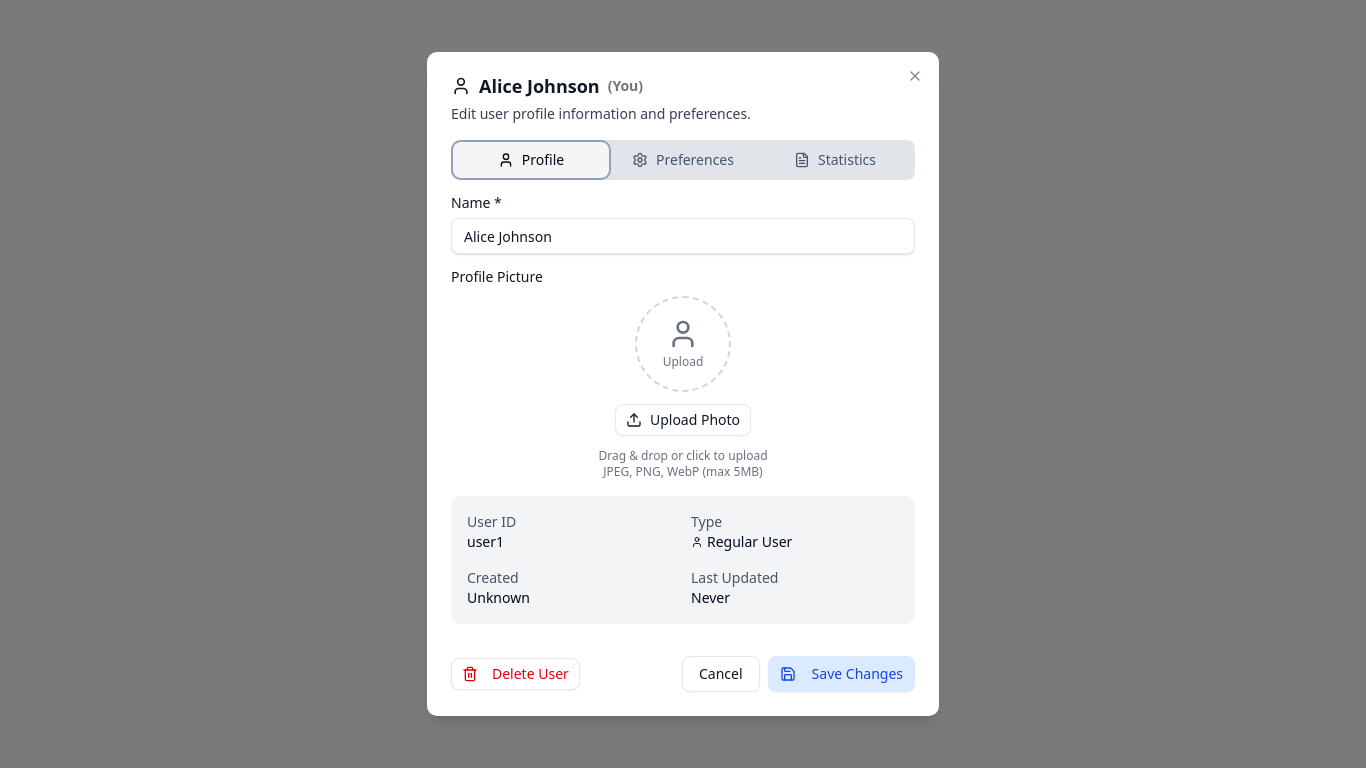
Test case: UserProfileDialog › Form Validation › shows validation message for empty name
// Clear the name
Clear the field showing "Alice Johnson" at {"x": 683, "y": 236}, box x1=451 y1=218 x2=915 y2=254
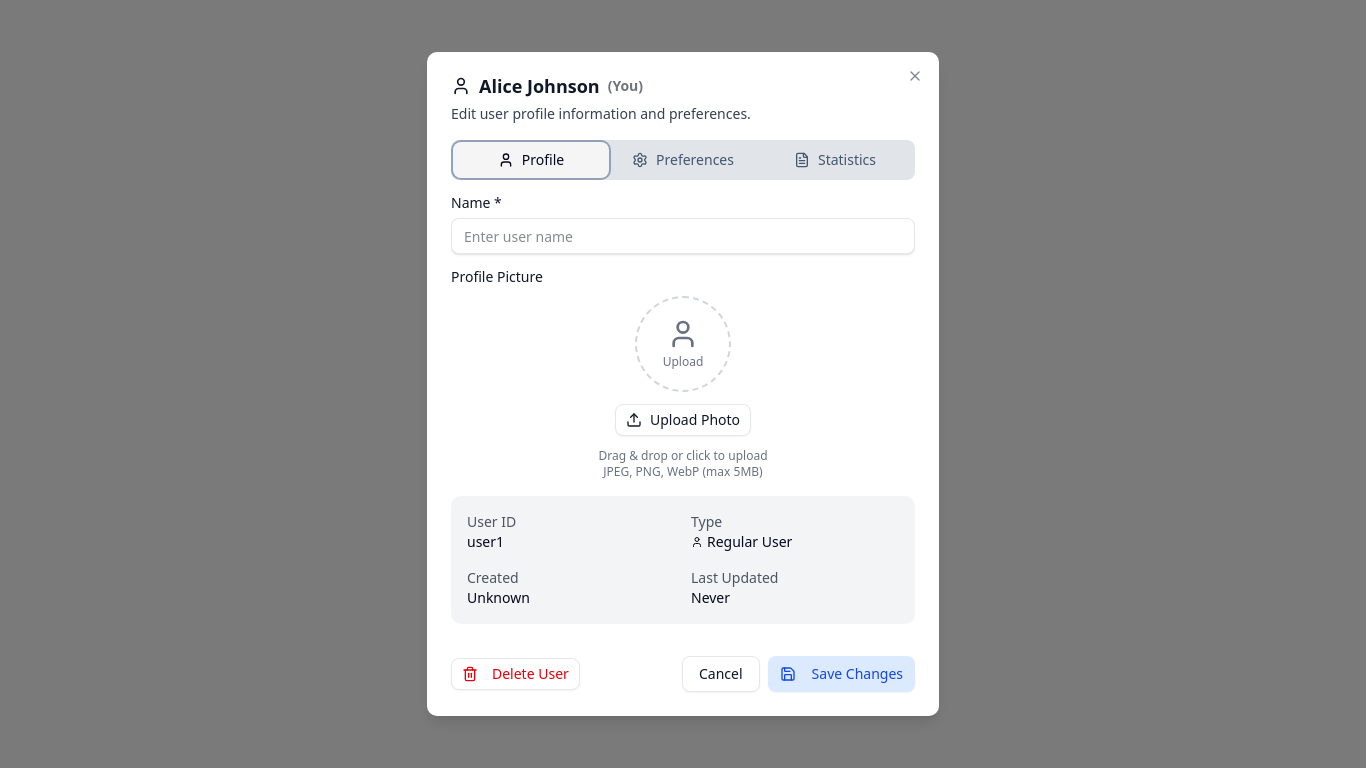
// Try to save
Click the button "Save Changes" at {"x": 841, "y": 674}, box x1=768 y1=656 x2=915 y2=692
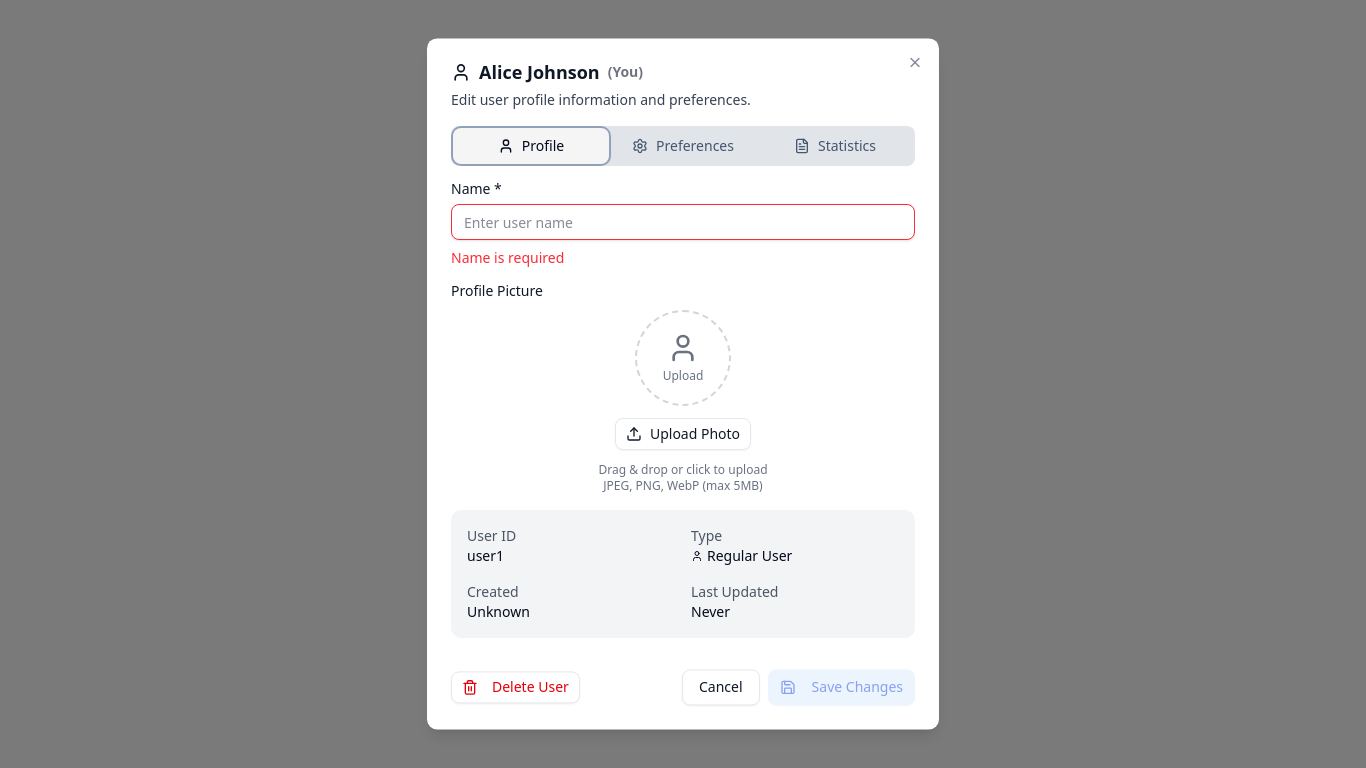
Check: the text "Name is required" is shown, box x1=451 y1=248 x2=564 y2=267
